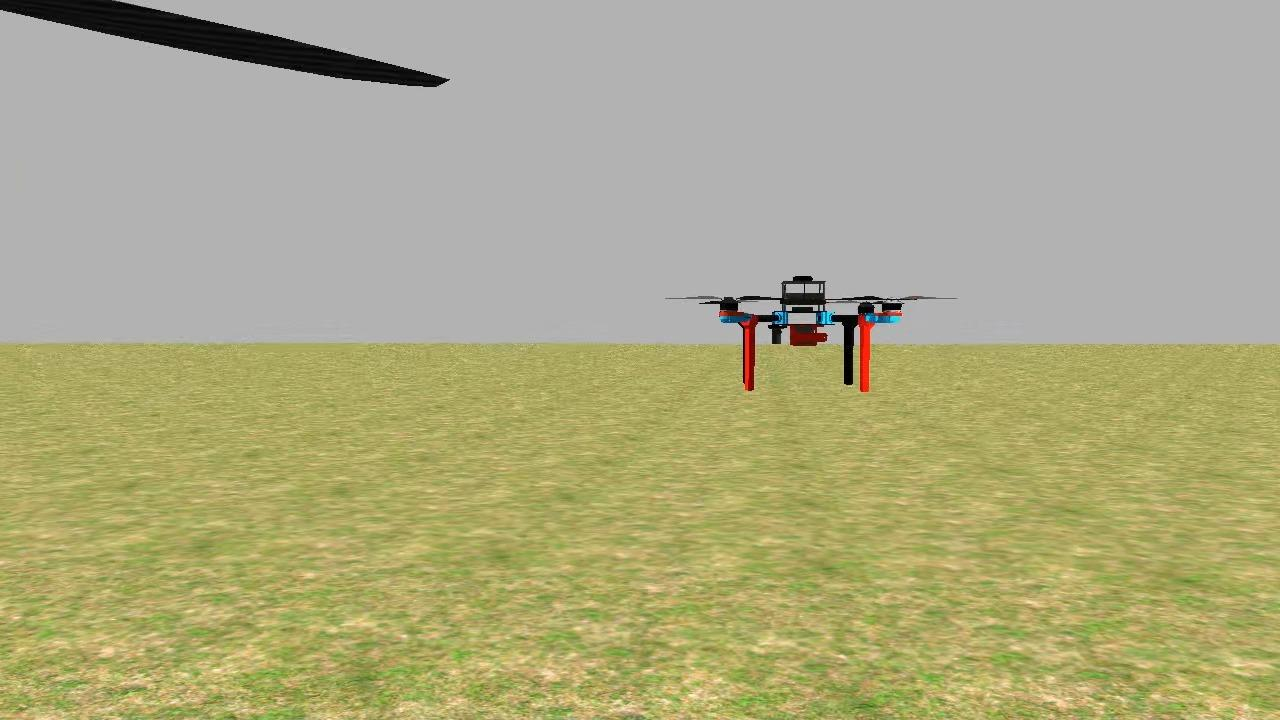UAV: (700, 263, 913, 401)
